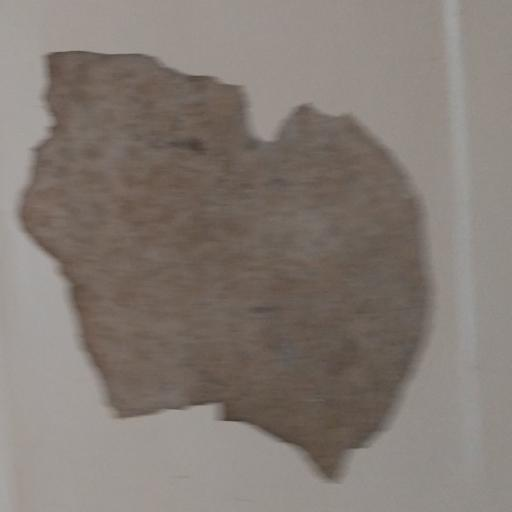peeling: (8, 28, 438, 499)
